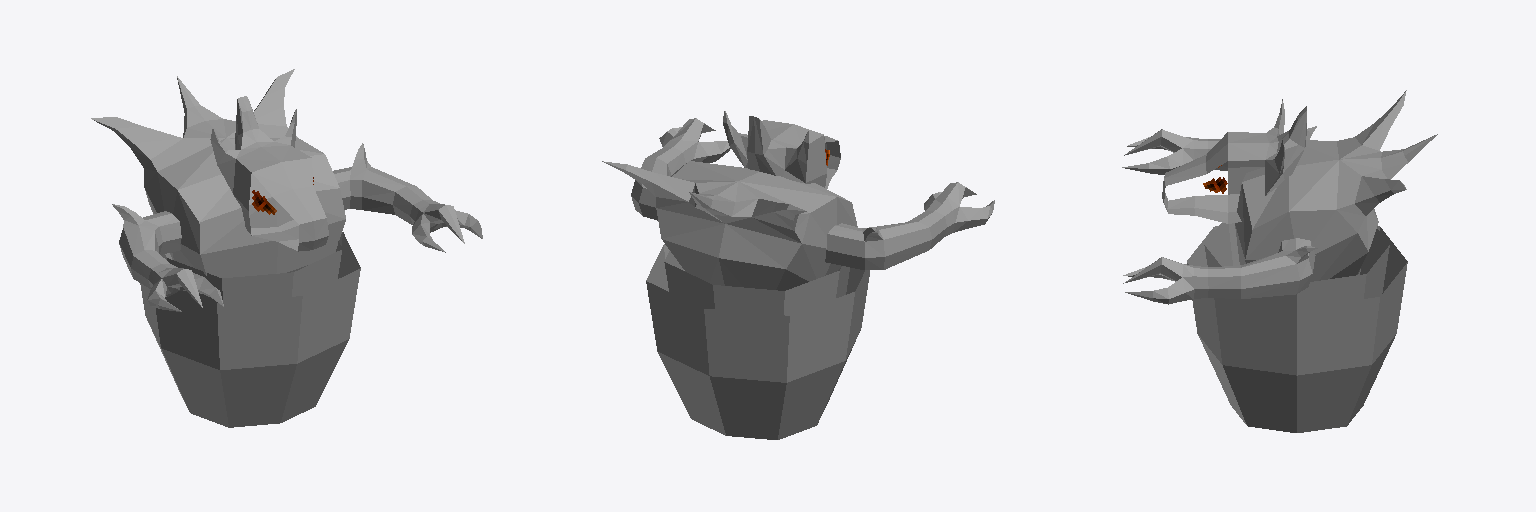
3 views of the same model, side by side, from view 1: azimuth 30°, elevation 25°; view 2: azimuth 150°, elevation 25°; view 3: azimuth 270°, elevation 25° (orthographic).
Parts seen in each view (by area): view 1: EffectOuter, Body, Head, ArmLeft, ArmRight, EffectInner; view 2: EffectOuter, Body, ArmRight, Head, EffectInner, ArmLeft; view 3: EffectOuter, Body, Head, ArmLeft, EffectInner, ArmRight.
Boxes of the visible parts, box(x1,y1,x2,y2) form: EffectOuter: box(140, 232, 360, 427); Body: box(91, 69, 345, 277); Head: box(210, 96, 328, 251); ArmLeft: box(333, 143, 482, 252); ArmRight: box(112, 204, 223, 311); EffectInner: box(161, 241, 341, 302); EffectOuter: box(646, 244, 869, 439); Body: box(602, 161, 857, 290); ArmRight: box(825, 182, 994, 269); Head: box(723, 111, 840, 188); EffectInner: box(664, 251, 849, 315); ArmLeft: box(631, 118, 730, 220); EffectOuter: box(1187, 226, 1407, 432); Body: box(1235, 90, 1437, 281); Head: box(1162, 99, 1306, 223); ArmLeft: box(1123, 238, 1317, 304); EffectInner: box(1204, 223, 1389, 307); ArmRight: box(1122, 126, 1316, 174).
Size of the model in its own units: 2.39 by 2.08 by 2.
3 materials, 1 textured.